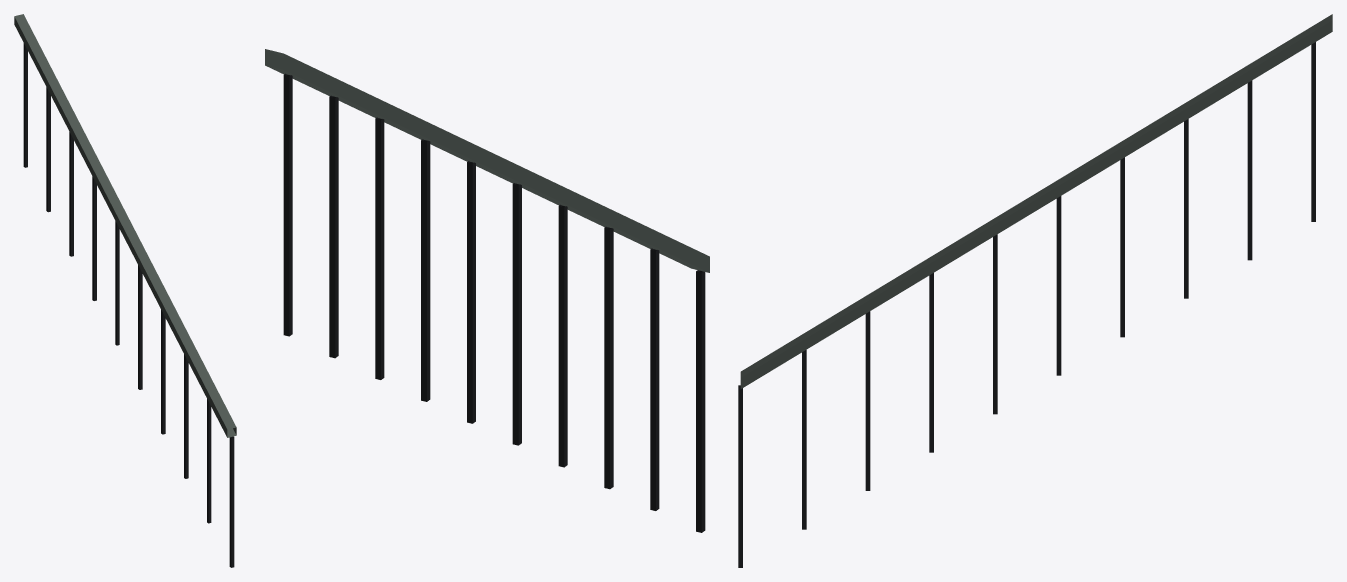
File: SM_Railing_Stairs_2m.fbx
3 views of the same model, side by side, from view 1: azimuth 30°, elevation 25°; view 2: azimuth 150°, elevation 25°; view 3: azimuth 270°, elevation 25° (orthographic). The views are drawn at different scales.
Visible parts, largest first — view 1: SM_Railing_Stairs_2m; view 2: SM_Railing_Stairs_2m; view 3: SM_Railing_Stairs_2m.
Part boxes in pixels (left/top/right/bottom): SM_Railing_Stairs_2m: left=14, top=14, right=236, bottom=567; SM_Railing_Stairs_2m: left=265, top=49, right=709, bottom=532; SM_Railing_Stairs_2m: left=738, top=14, right=1332, bottom=567.
Size of the model in its own units: 0.07 by 2.86 by 2.8.
